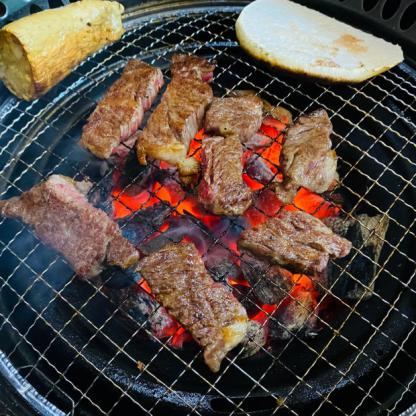Carne: (136, 245, 258, 364), (76, 61, 170, 153), (240, 207, 348, 280), (148, 56, 205, 179), (202, 92, 261, 203), (276, 104, 347, 186)
